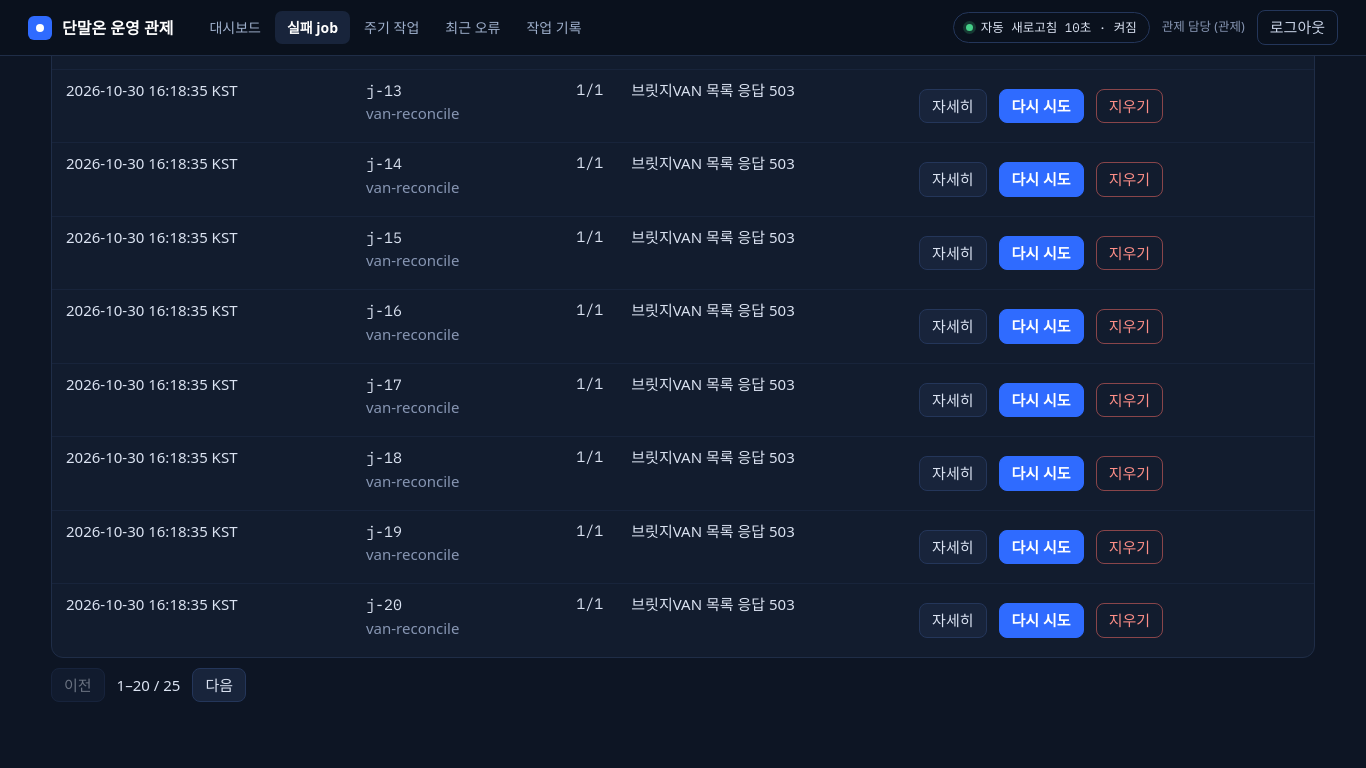
it: 실패 job (보강 6, decisions/0072) › 20개가 넘으면 다음·이전으로 start를 옮긴다
(page scrolled)
Check: the text "1–20 / 25" is shown, box [117,674,180,696]
Click the button "다음": (219, 685) [192,668,246,702]
(page scrolled)
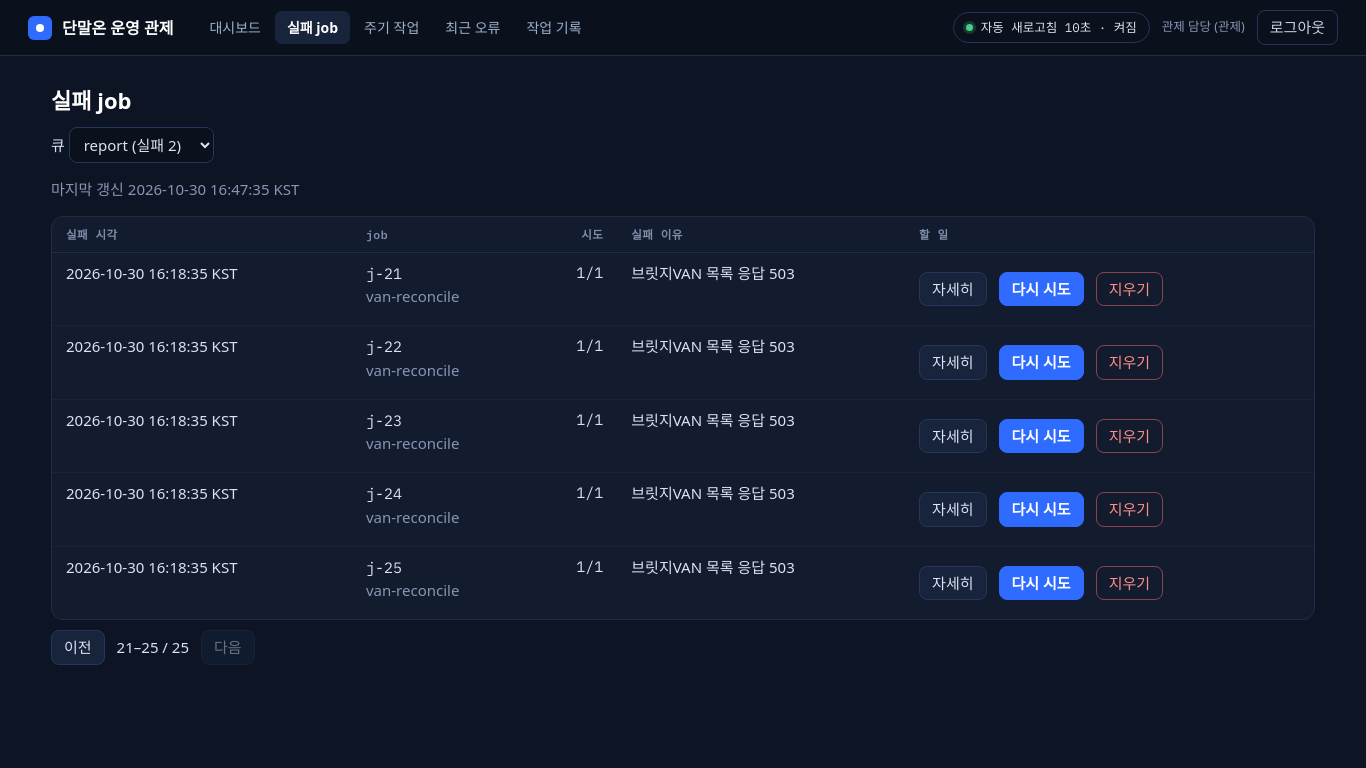
Check: the text "21–25 / 25" is shown, box [117,636,189,659]
Check: the text "j-21" is shown, box [366,264,402,283]
Check: the button "다음" is disabled, box [201,630,255,665]
